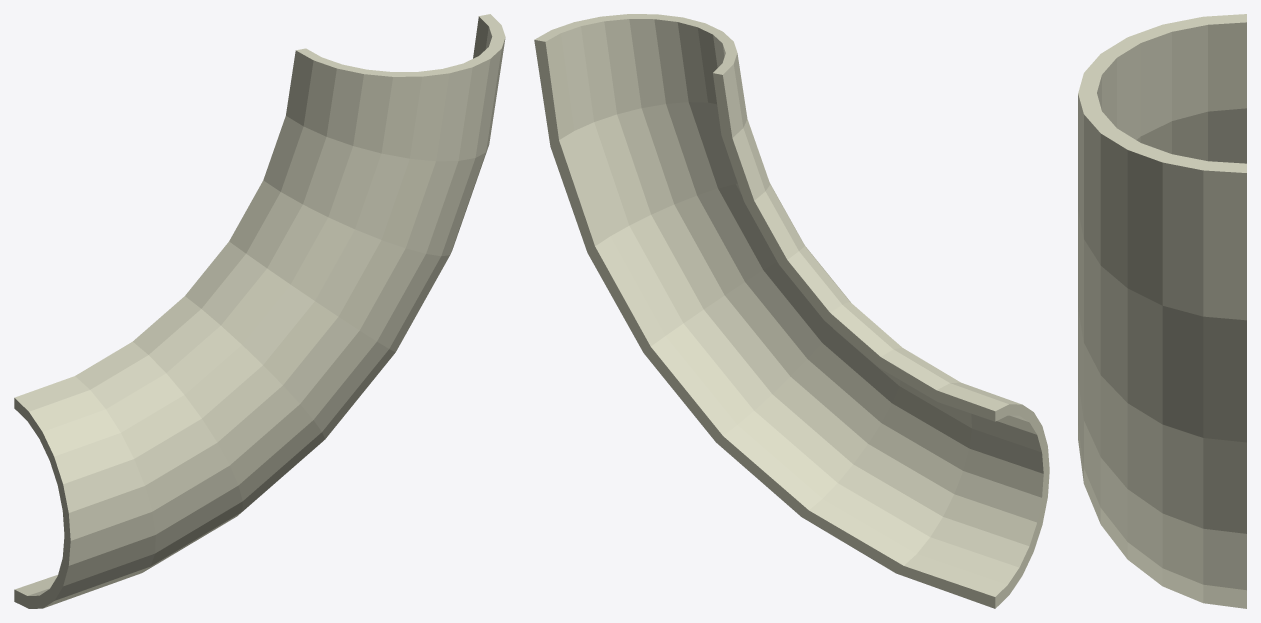
File: section_234.obj
The picture shows the model from 3 angles, left to right: view 1: azimuth 30°, elevation 25°; view 2: azimuth 150°, elevation 25°; view 3: azimuth 270°, elevation 25°; orthographic projection. The views are drawn at different scales.
Size of the model in its own units: 43.93 by 42.58 by 9.
